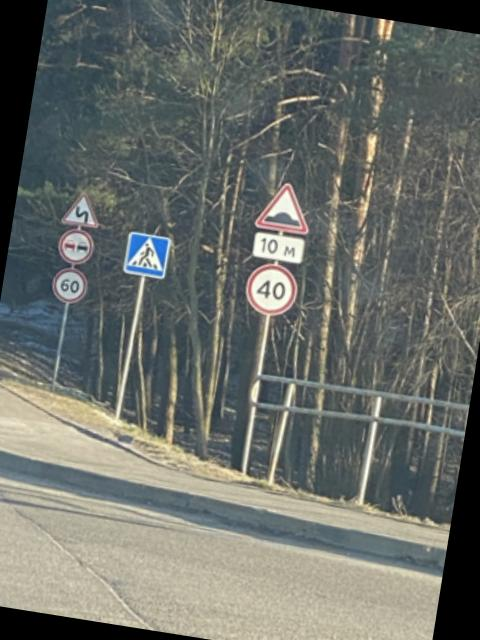crosswalk-sign: (121, 229, 173, 280)
